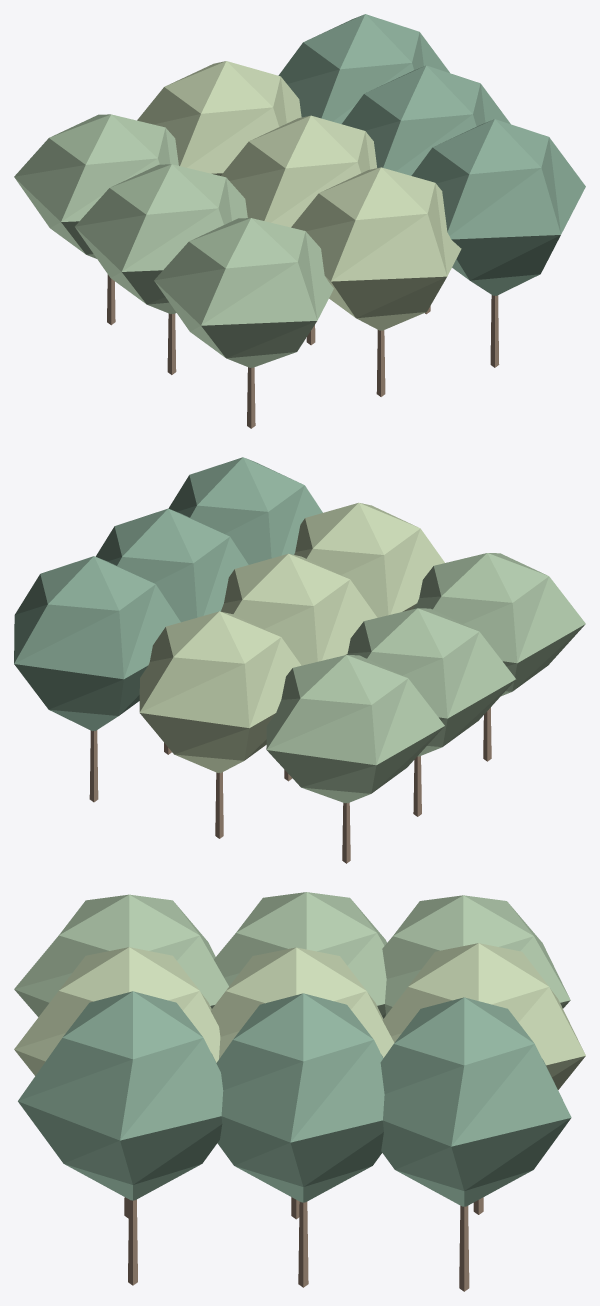
File: forest-grove.glb
The picture shows the model from 3 angles, top to bottom: view 1: azimuth 30°, elevation 25°; view 2: azimuth 150°, elevation 25°; view 3: azimuth 270°, elevation 25°; orthographic projection. The views are drawn at different scales.
Visible parts, largest first — view 1: forest-grove; view 2: forest-grove; view 3: forest-grove.
Part boxes in pixels (x1,y1,x2,y2): forest-grove: [14, 14, 585, 428]; forest-grove: [14, 457, 585, 863]; forest-grove: [14, 892, 585, 1291].
Size of the model in its own units: 18.55 by 10.4 by 18.46.
